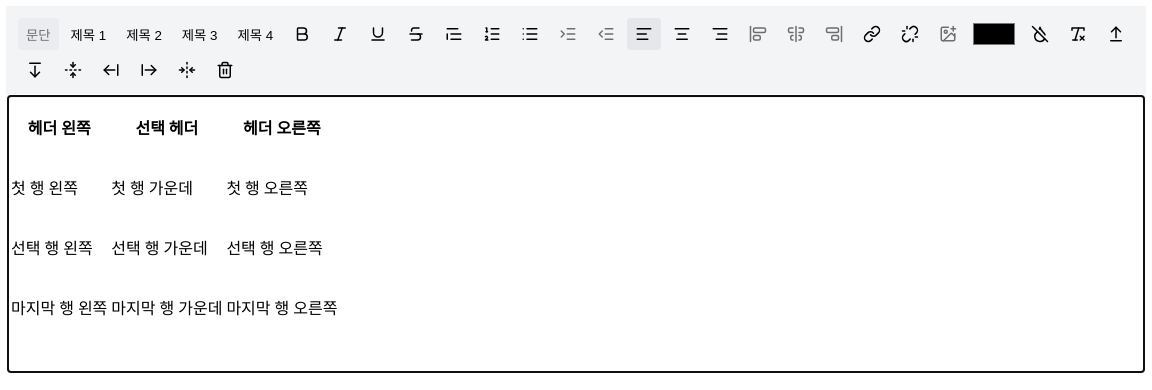
Test: TableControls › 현재 표를 문서에서 삭제한다
This screenshot has width=1152, height=390.
Step 1. Click the button named "표 삭제" → (225, 70), box left=208, top=54, right=242, bottom=86
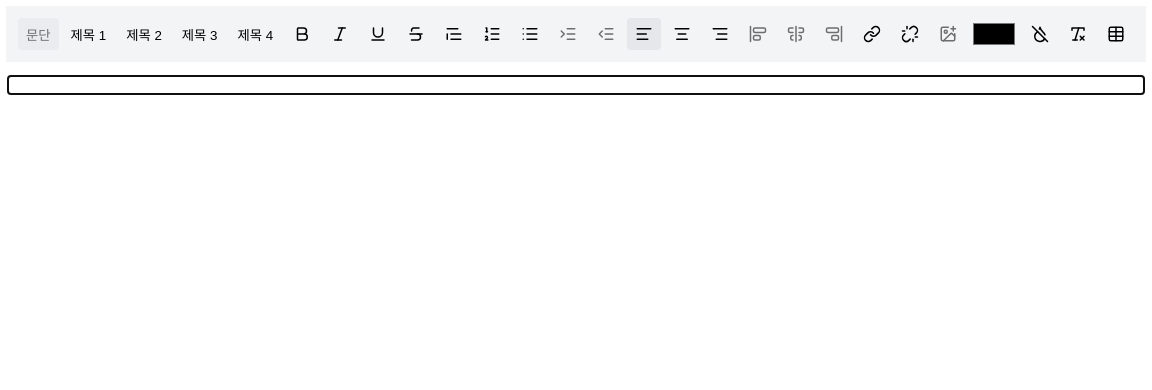
Check: the button named "표 삽입" is enabled, box left=1099, top=18, right=1133, bottom=50
Check: the table is gone
